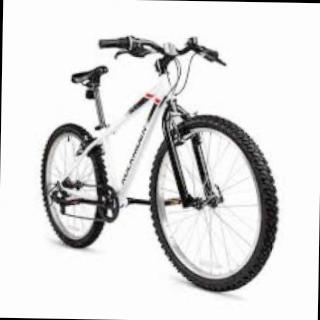bicycle: (38, 31, 283, 296)
